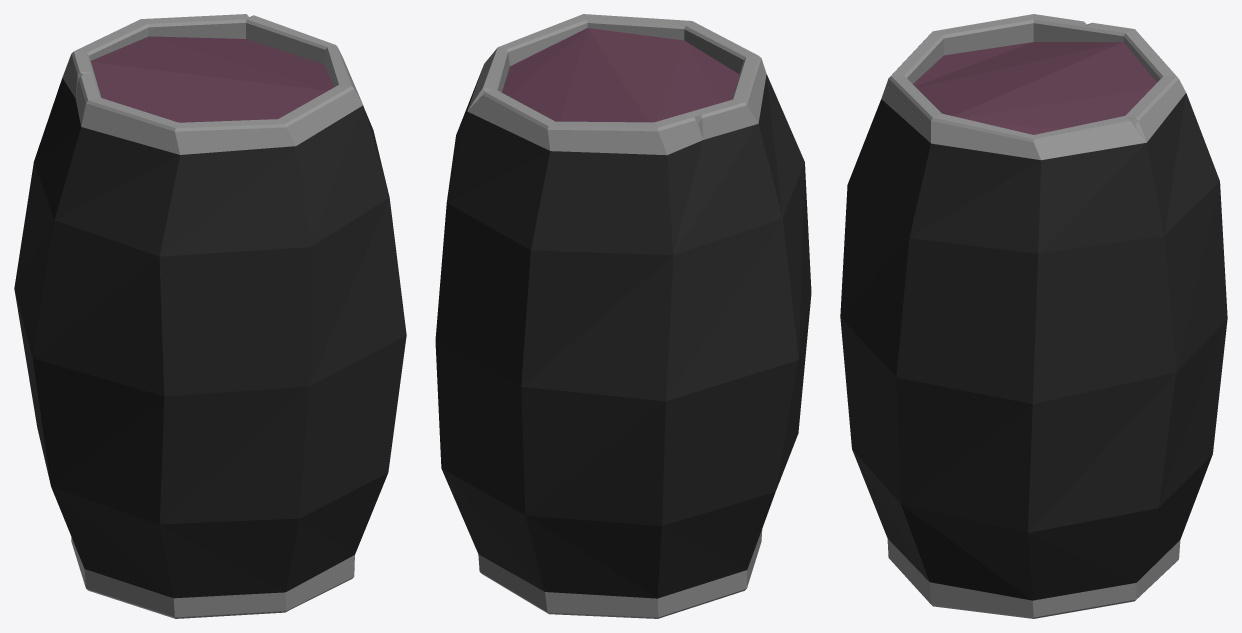
Rendered from prop_barrel.FBX.
The picture shows the model from 3 angles, left to right: view 1: azimuth 30°, elevation 25°; view 2: azimuth 150°, elevation 25°; view 3: azimuth 270°, elevation 25°; orthographic projection.
Parts seen in each view (by area): view 1: Cylinder002; view 2: Cylinder002; view 3: Cylinder002.
Part boxes in pixels (x1,y1,x2,y2): Cylinder002: (14,14,406,618); Cylinder002: (435,14,811,618); Cylinder002: (840,14,1227,618).
Bounding box in the file's own units: 1.71 × 2.25 × 1.61.
